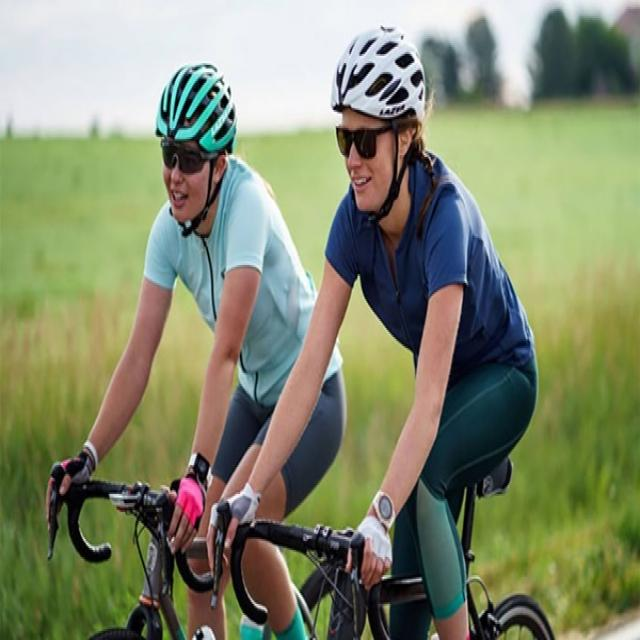1-2-helmet: (330, 24, 428, 126), (155, 59, 240, 155)
